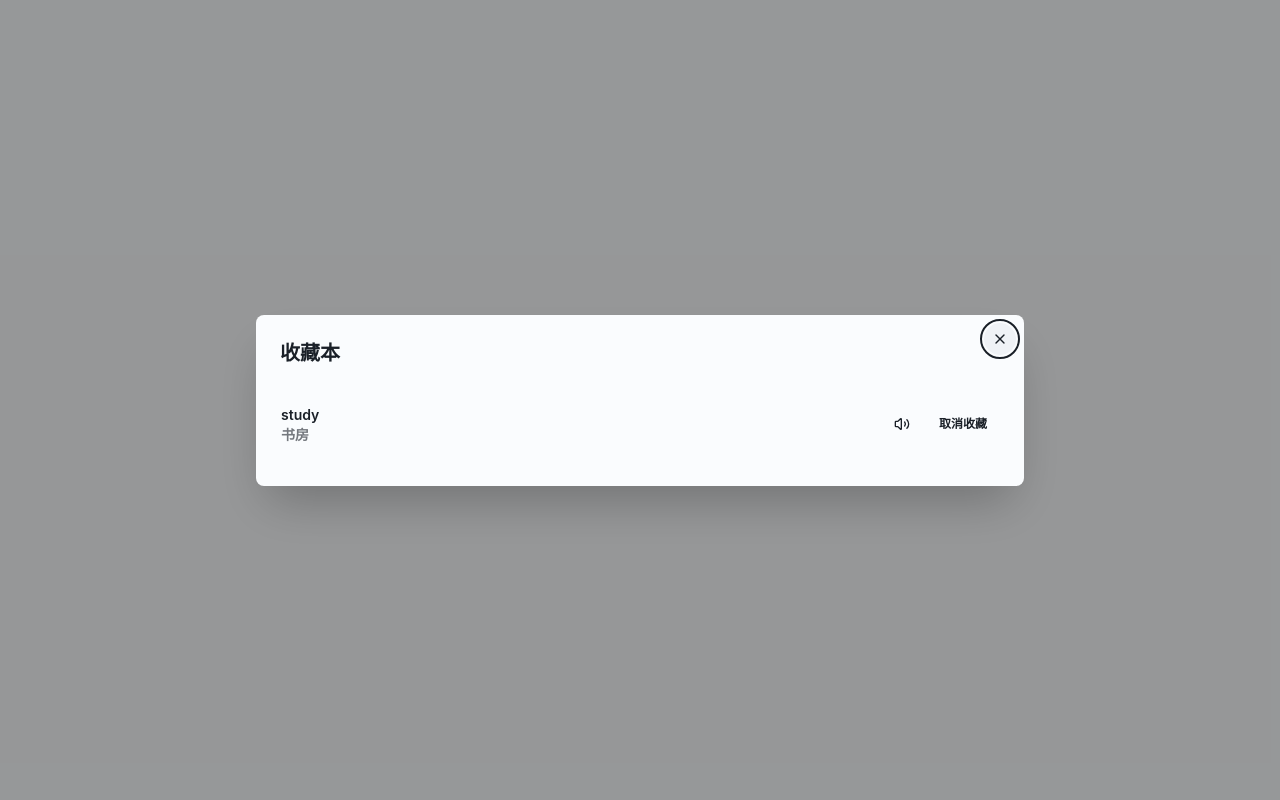
Test: WordFavoritesPanel › moves focus to the modal close control after removing the selected word
Click the button with aria-label "查看 study". click: (300, 414)
box: [280, 402, 874, 446]
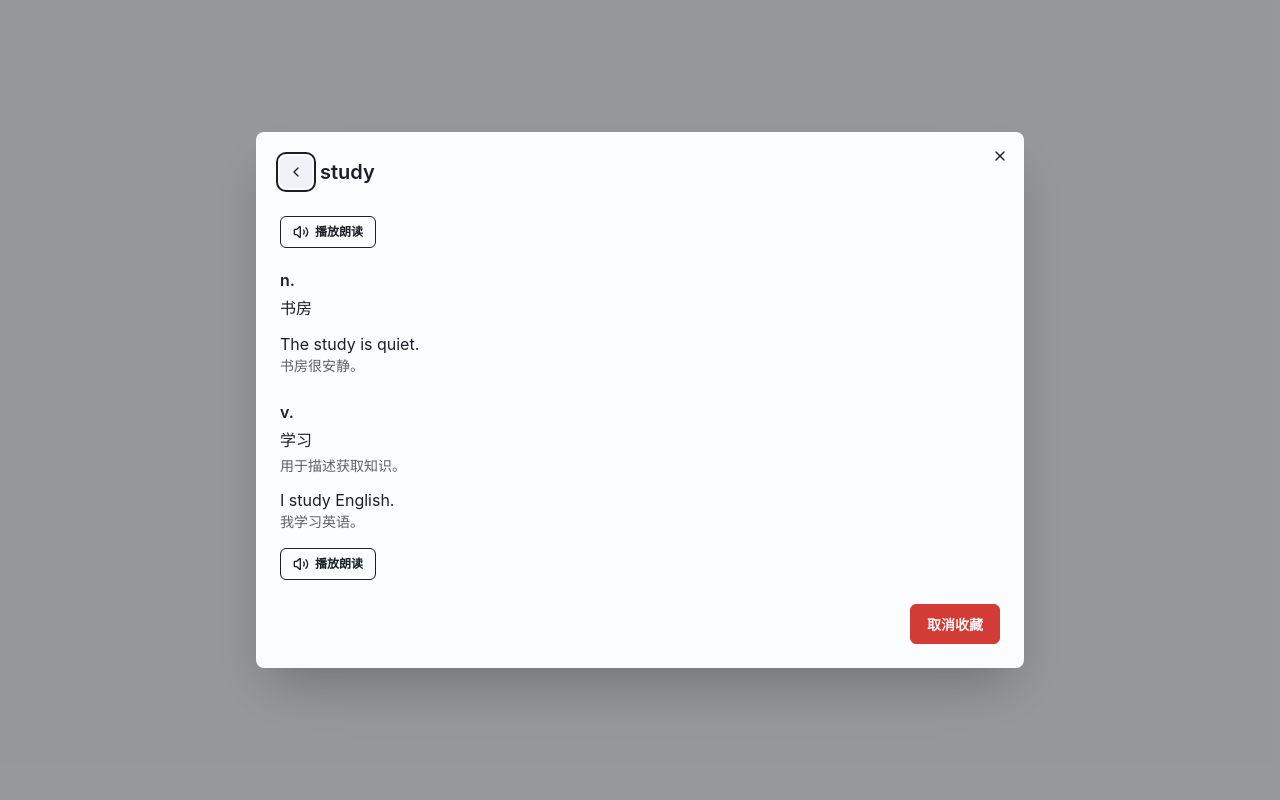
Click the button "取消收藏". click: (955, 624)
box: [910, 604, 1000, 644]
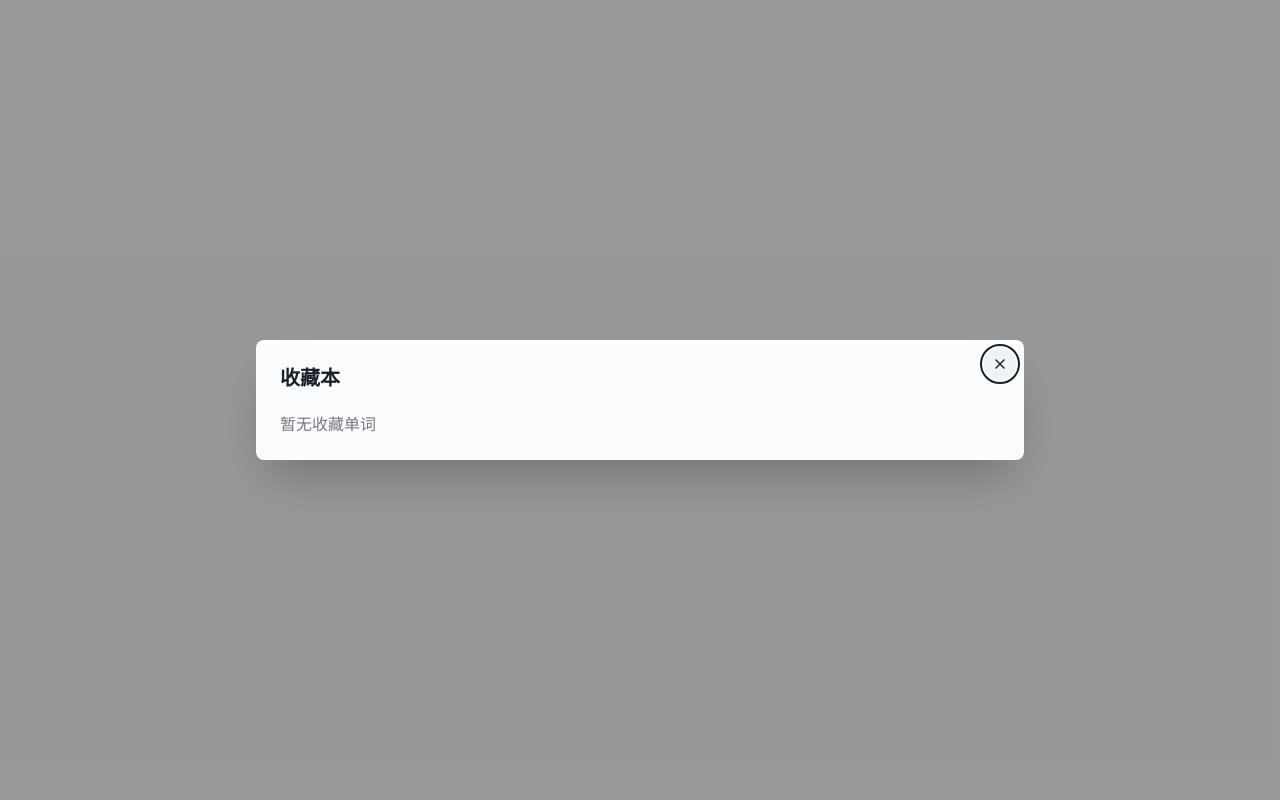
Result: the text "暂无收藏单词" is shown at [280, 414, 376, 434]
